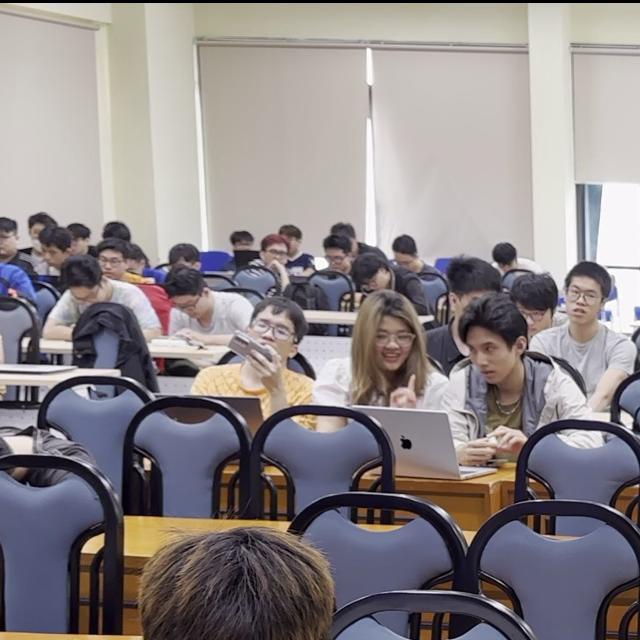Looking away: (460, 334, 514, 385), (370, 319, 416, 372)
Looking forward: (565, 276, 603, 326)
Phone use: (193, 303, 316, 426)
